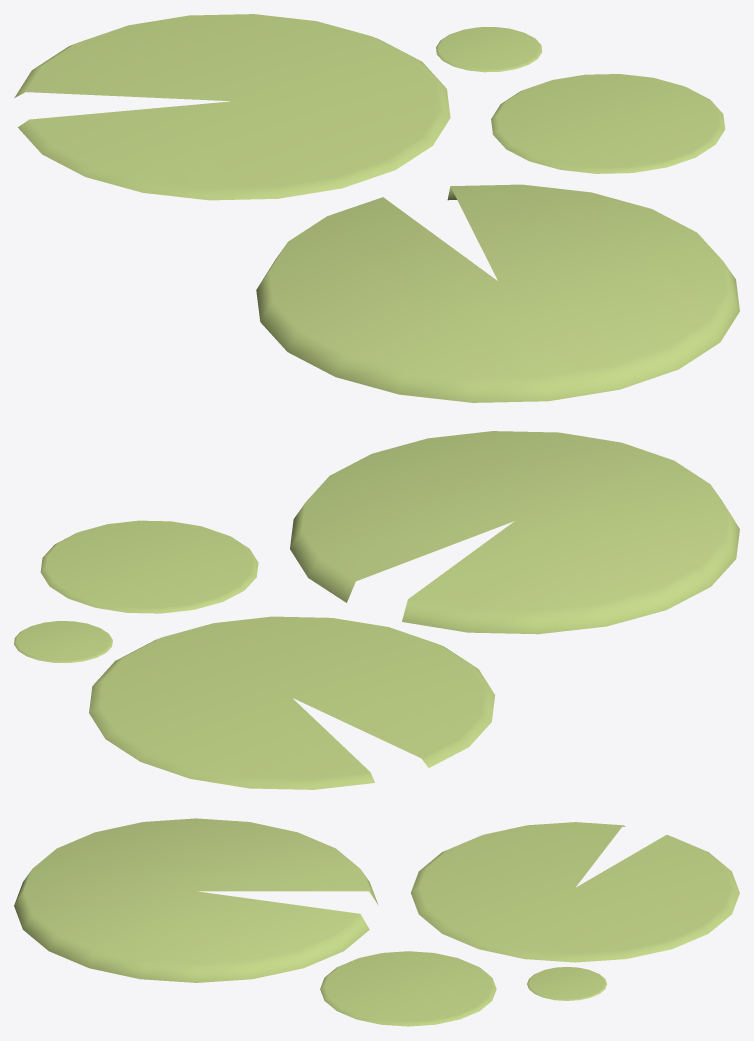
File: Lillypads.fbx
3 views of the same model, one above another, from view 1: azimuth 30°, elevation 25°; view 2: azimuth 150°, elevation 25°; view 3: azimuth 270°, elevation 25° (orthographic). The views are drawn at different scales.
Parts seen in each view (by area): view 1: Lillypads; view 2: Lillypads; view 3: Lillypads.
Part boxes in pixels (x1,y1,x2,y2): Lillypads: (14,14,739,402); Lillypads: (14,431,739,789); Lillypads: (14,818,739,1026).
Size of the model in its own units: 314 by 10.36 by 466.
1 material, 1 textured.
